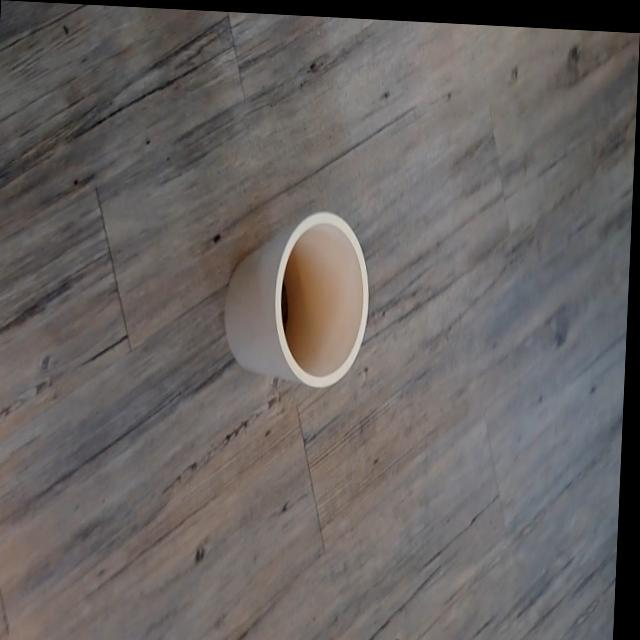CORAL: (188, 171, 387, 413)
